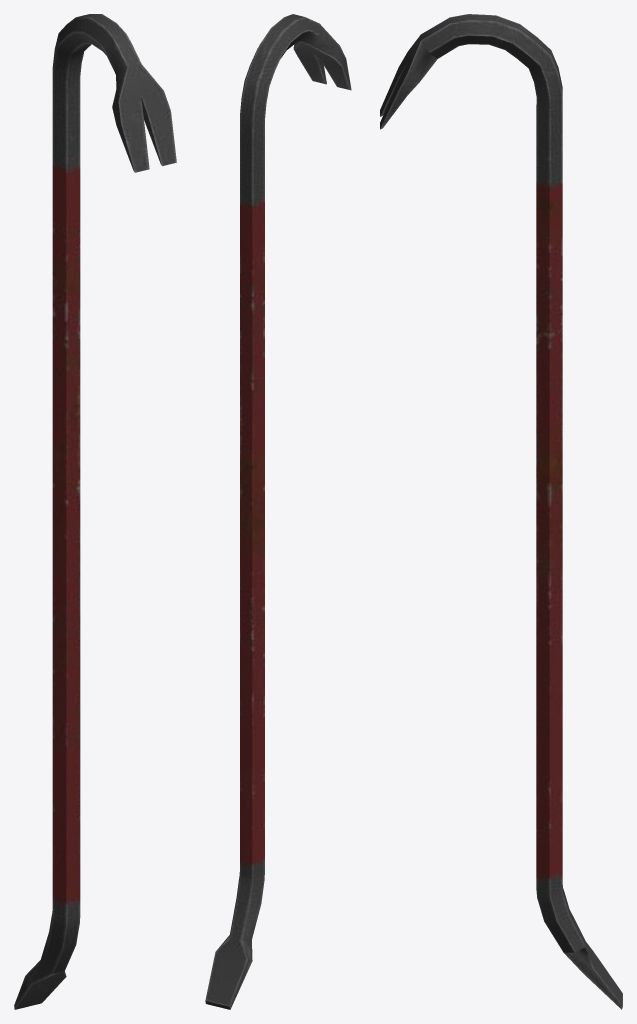
The model's file is mp_crowbar.glb.
3 renders of one model, left to right at view 1: azimuth 30°, elevation 25°; view 2: azimuth 150°, elevation 25°; view 3: azimuth 270°, elevation 25°, orthographic. The views are drawn at different scales.
Parts seen in each view (by area): view 1: Crowbar; view 2: Crowbar; view 3: Crowbar.
Boxes of the visible parts, x1,y1,x2,y2 form: Crowbar: [14, 14, 176, 1009]; Crowbar: [205, 14, 351, 1009]; Crowbar: [380, 14, 622, 1009].
Bounding box in the file's own units: 0.0402 × 0.8 × 0.1785.
Materials: 1 (1 with a texture image).
